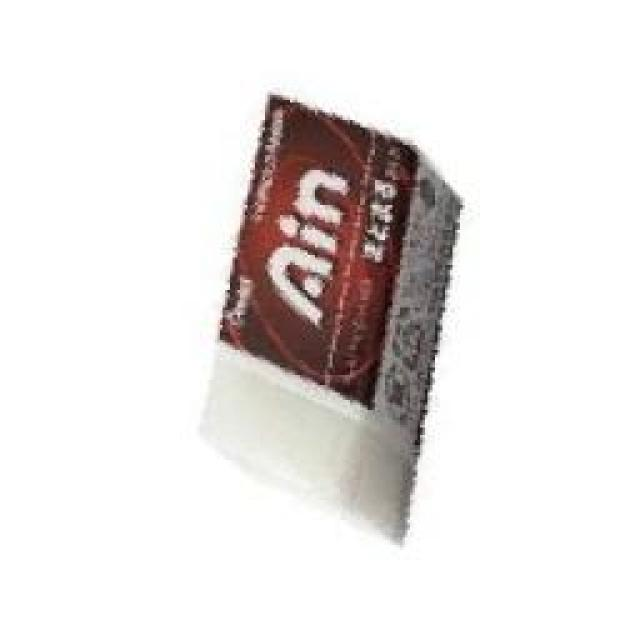Silgi: (195, 90, 468, 551)
